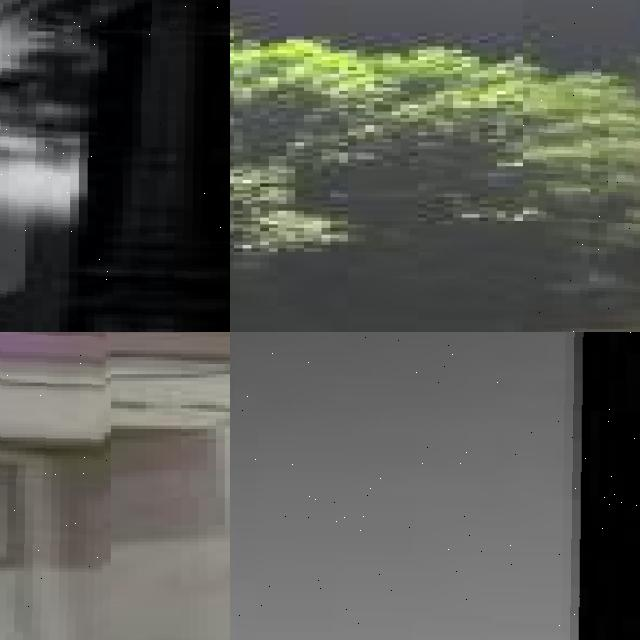street light: (235, 332, 640, 640), (0, 0, 230, 332), (523, 0, 640, 332), (0, 332, 111, 640)
